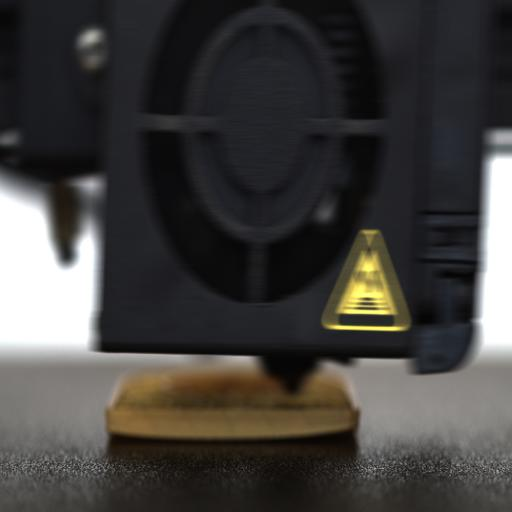warp: (102, 416, 173, 448), (307, 409, 362, 444)
